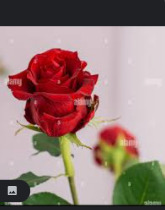RedRose: (6, 44, 105, 152)
